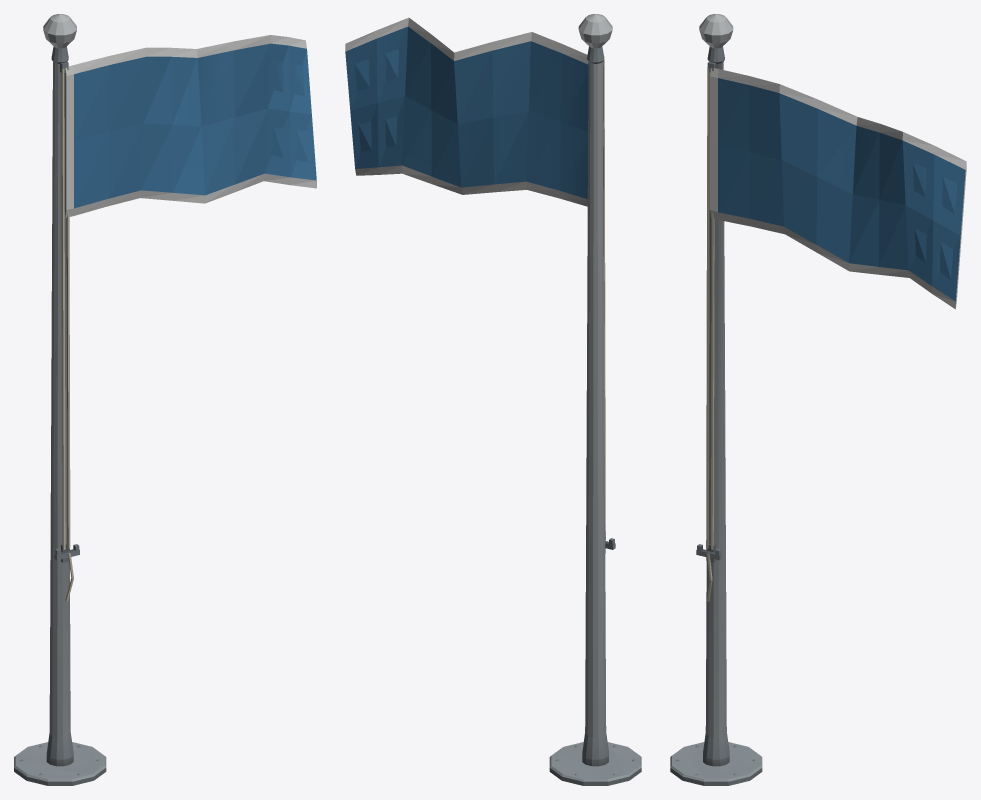
File: flagpole.glb
3 renders of one model, left to right at view 1: azimuth 30°, elevation 25°; view 2: azimuth 150°, elevation 25°; view 3: azimuth 330°, elevation 25°, orthographic.
Visible parts, largest first — view 1: flagpole; view 2: flagpole; view 3: flagpole.
Part boxes in pixels (x1,y1,x2,y2): flagpole: [14, 14, 316, 785]; flagpole: [345, 14, 641, 785]; flagpole: [670, 14, 966, 785].
Size of the model in its own units: 3.61 by 9 by 1.
